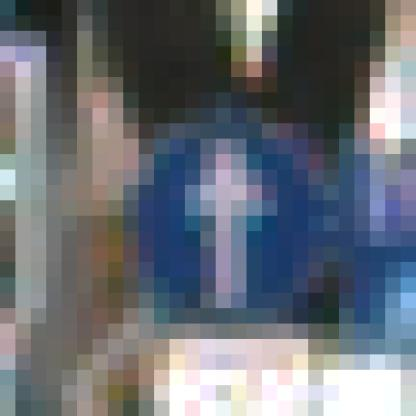AheadOnly: (93, 78, 340, 340)
